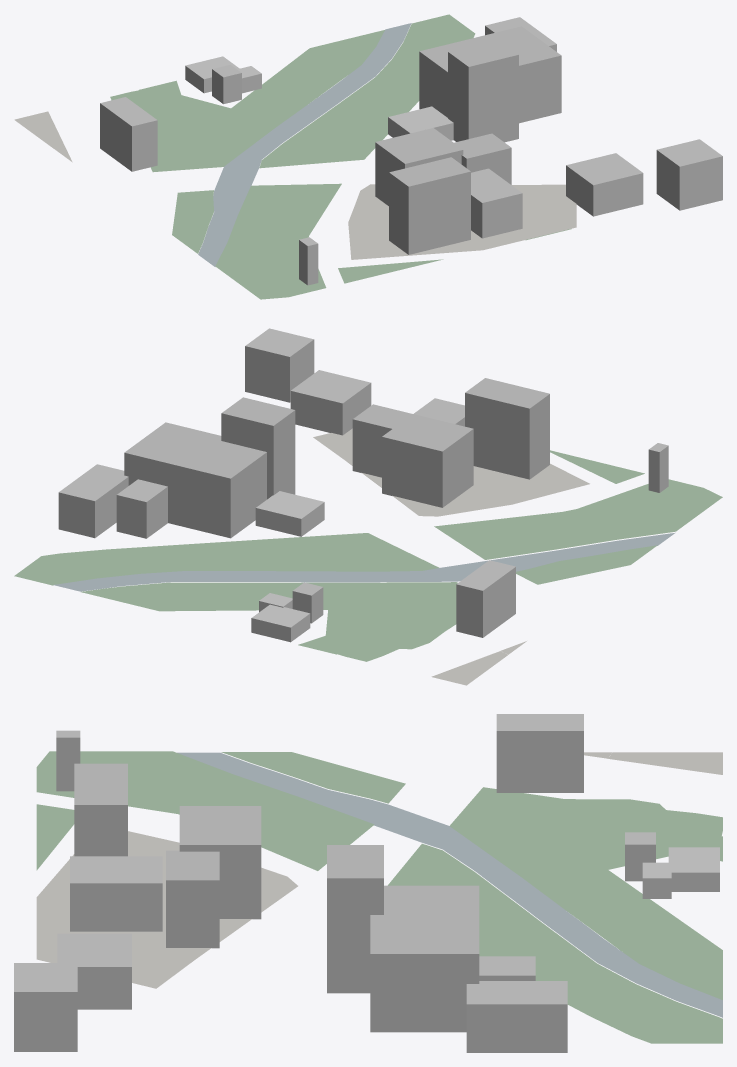
The model's file is 130_102_mid.glb.
3 views of the same model, one above another, from view 1: azimuth 30°, elevation 25°; view 2: azimuth 150°, elevation 25°; view 3: azimuth 270°, elevation 25° (orthographic). The views are drawn at different scales.
Size of the model in its own units: 516 by 92.5 by 517.
